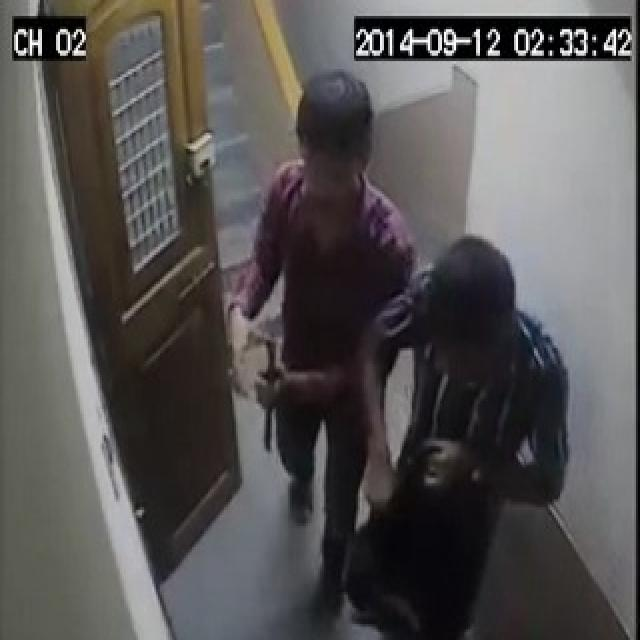thief: (264, 89, 566, 628)
